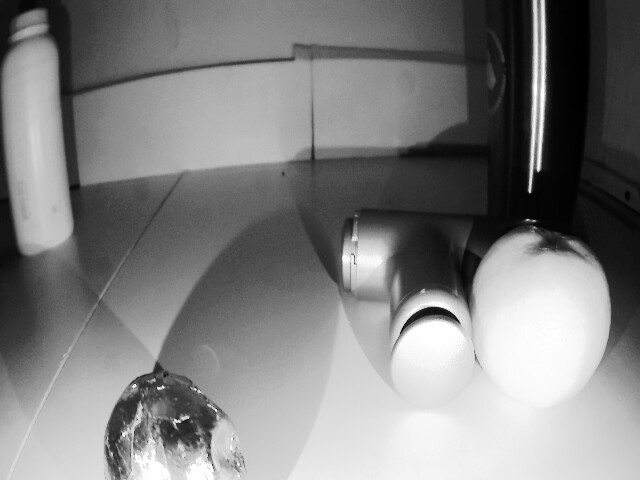black: (100, 368, 279, 480)
